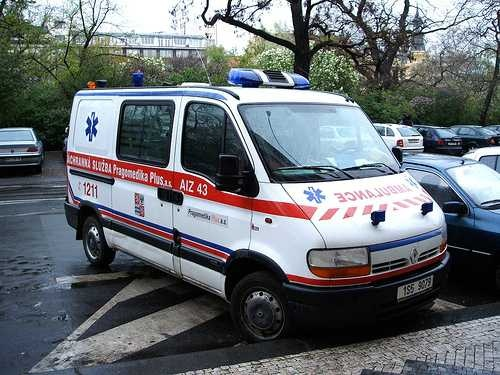Ambulance: (49, 41, 452, 331)
